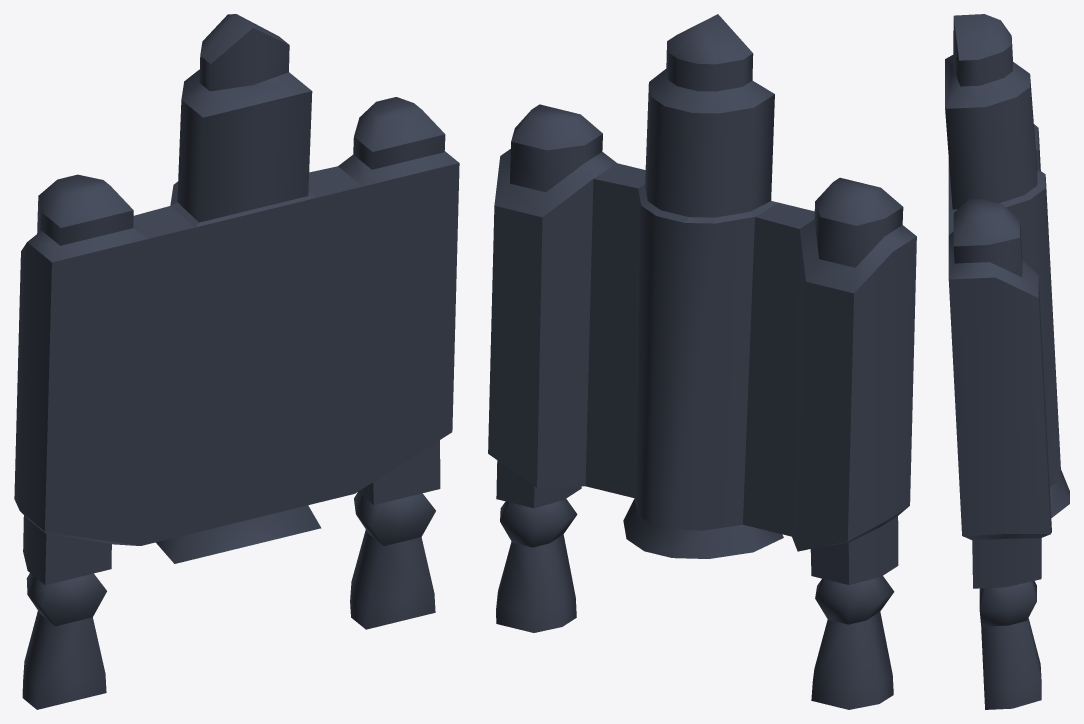
The model's file is Mando_Jetpack.fbx.
The picture shows the model from 3 angles, left to right: view 1: azimuth 30°, elevation 25°; view 2: azimuth 150°, elevation 25°; view 3: azimuth 270°, elevation 25°; orthographic projection. The views are drawn at different scales.
Visible parts, largest first — view 1: Jetpack_Mando; view 2: Jetpack_Mando; view 3: Jetpack_Mando.
Part boxes in pixels (left/top/right/bottom): Jetpack_Mando: left=14, top=14, right=459, bottom=709; Jetpack_Mando: left=488, top=14, right=916, bottom=709; Jetpack_Mando: left=945, top=14, right=1069, bottom=709.
Bounding box in the file's own units: 17.88 × 27.15 × 5.07.
